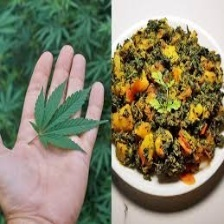sabzi: (112, 19, 224, 185)
